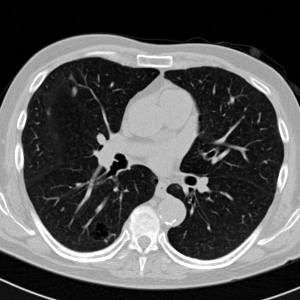nodule: (71, 88, 77, 94)
